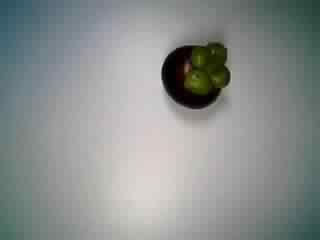mangosteen: (155, 37, 238, 112)
